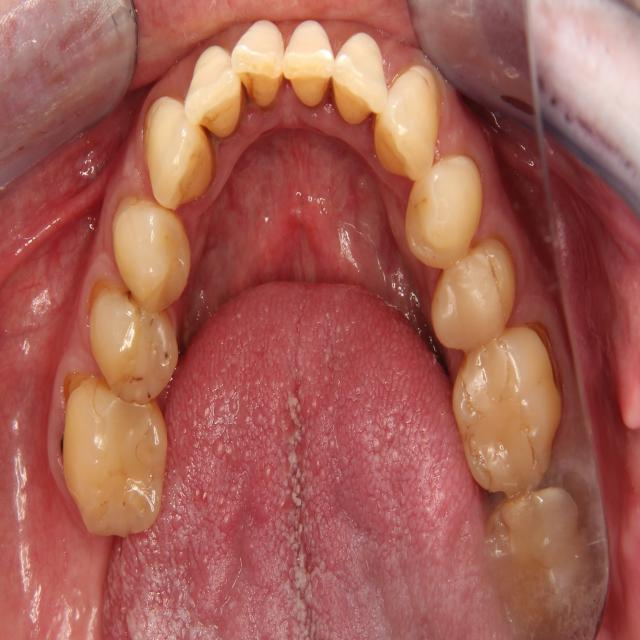tooth: (446, 317, 569, 501), (57, 365, 176, 546), (477, 470, 596, 638), (81, 271, 185, 407), (107, 188, 197, 317), (425, 235, 520, 354), (399, 148, 488, 275), (140, 92, 220, 213), (373, 56, 443, 187), (331, 27, 389, 130), (183, 41, 242, 140), (230, 14, 289, 110), (281, 15, 335, 115)
